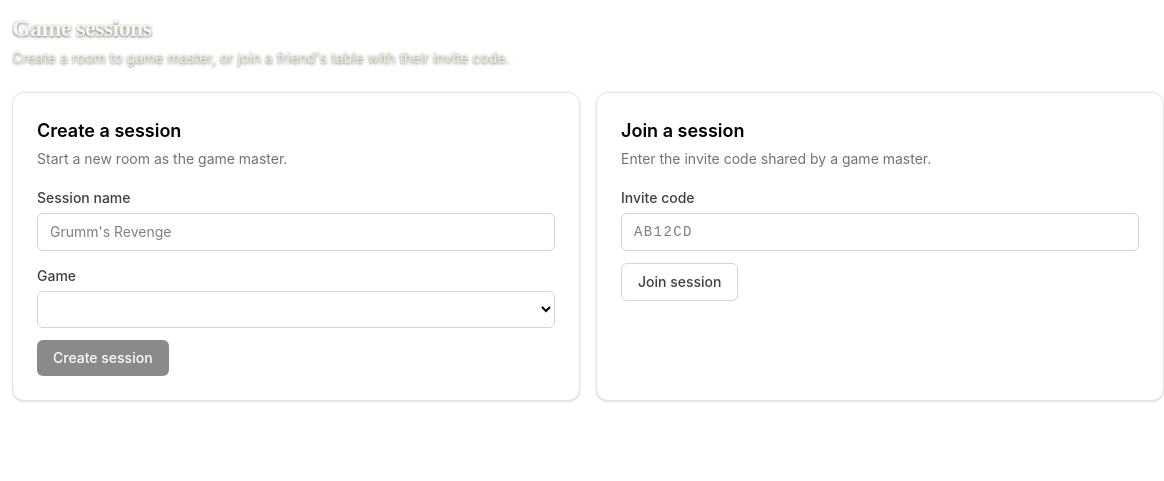
Test case: LobbyPage › shows an error when joining fails
The image size is (1164, 481).
Expected: the dropdown labelled "Game" is shown, [37,291,555,328]
Type "ZZZZZZ" into the field labelled "Invite code". click: (880, 232)
box: [621,213,1139,251]
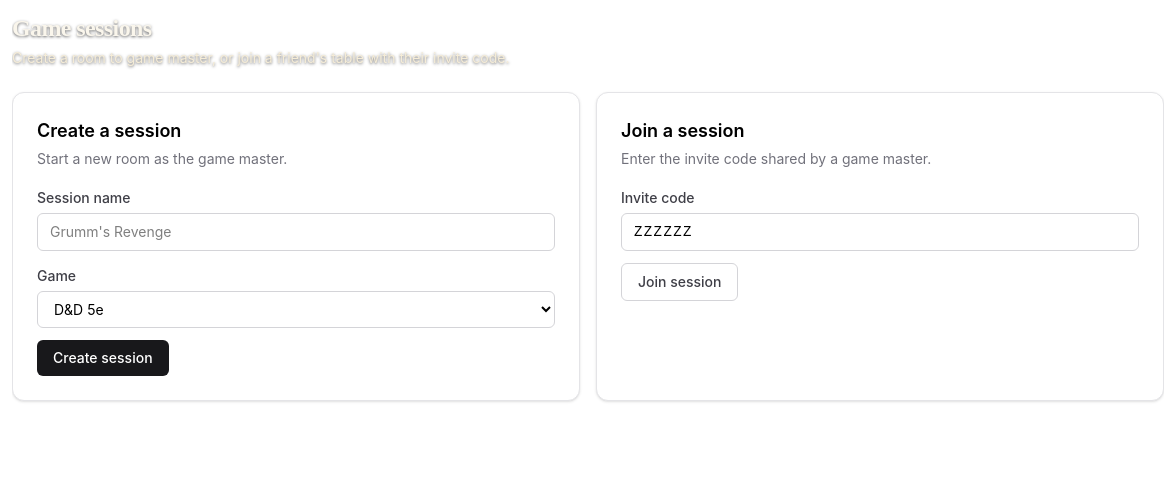
Click the button "Join session". click: (680, 282)
box: [621,263,738,301]
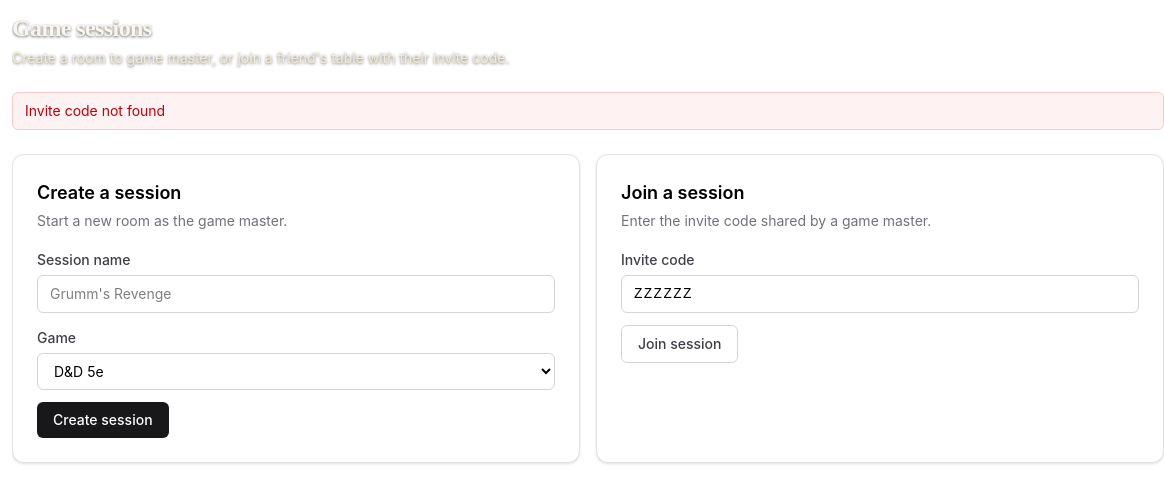
Result: the message reads "Invite code not found" at [25,102,165,119]
